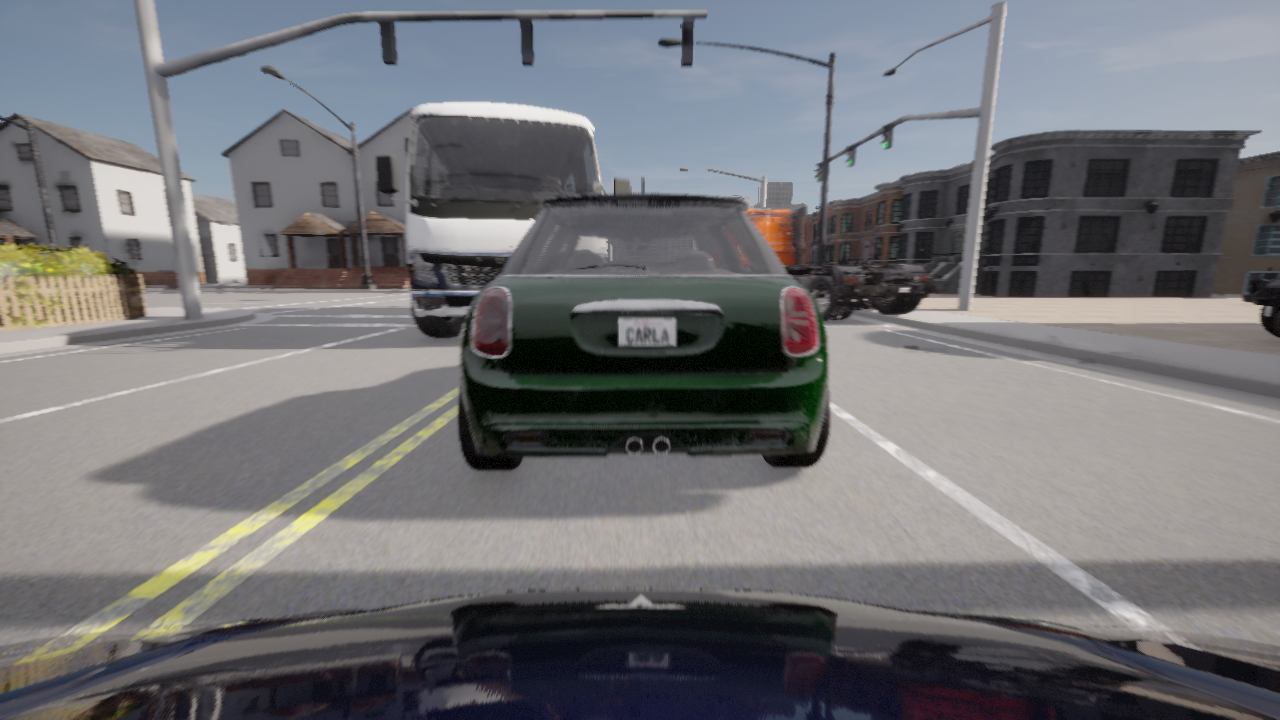cyclist: (0, 588, 1279, 719), (458, 177, 830, 469), (375, 102, 630, 338), (745, 205, 946, 321), (1243, 277, 1279, 337)
